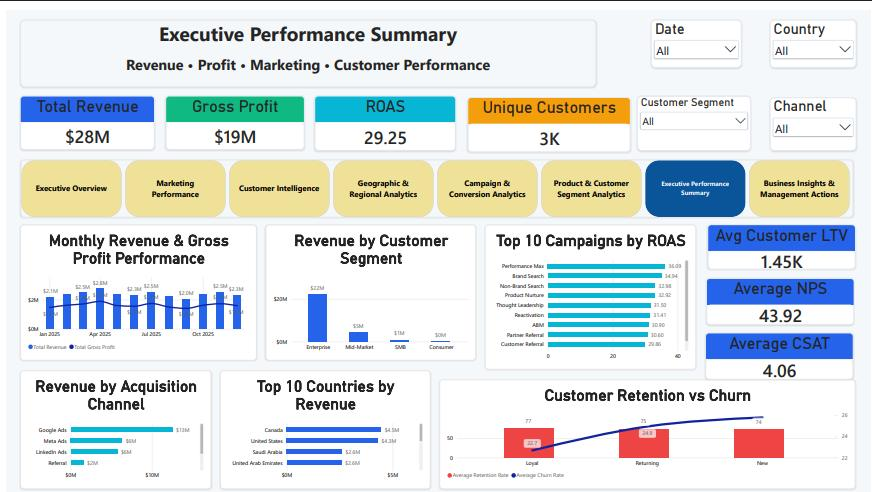

This screenshot's page, from the dashboard's own definition file:
{"tool":"powerbi","page":{"name":"Executive Performance Summary","canvas":[1920,1080],"ordinal":6},"visuals":[{"type":"textbox","box":[30.3,20.2,1279.2,148.9],"z":0},{"type":"cardVisual","title":"Total Revenue","fields":{"Data":["customer_marketing_db vw_customer_marketing.Total Revenue"]},"box":[30.3,189.2,297.7,118.6],"z":1000},{"type":"cardVisual","title":"Gross Profit","fields":{"Data":["customer_marketing_db vw_customer_marketing.Total Gross Profit"]},"box":[353.2,189.2,307.8,118.6],"z":2000},{"type":"cardVisual","title":"Unique Customers","fields":{"Data":["customer_marketing_db vw_customer_marketing.Unique Customers"]},"box":[1024.3,191.7,360.8,121.1],"z":3000},{"type":"cardVisual","title":"ROAS","fields":{"Data":["customer_marketing_db vw_customer_marketing.Total ROAS"]},"box":[683.7,189.2,312.9,121.1],"z":4000},{"type":"lineClusteredColumnComboChart","title":"Monthly Revenue & Gross Profit Performance","fields":{"Category":["DateTable.Year Month"],"Y":["customer_marketing_db vw_customer_marketing.Total Revenue"],"Y2":["customer_marketing_db vw_customer_marketing.Total Gross Profit"]},"box":[30.3,474.3,524.8,300.2],"z":5000},{"type":"clusteredBarChart","title":"Revenue by Acquisition Channel","fields":{"Category":["customer_marketing_db vw_customer_marketing.Acquisition_Channel"],"Y":["customer_marketing_db vw_customer_marketing.Total Revenue"]},"box":[30.3,797.3,423.9,262.4],"z":6000},{"type":"clusteredColumnChart","title":"Revenue by Customer Segment","fields":{"Category":["customer_marketing_db vw_customer_marketing.Customer_Segment"],"Y":["customer_marketing_db vw_customer_marketing.Total Revenue"]},"box":[575.2,474.3,466.8,300.2],"z":7000},{"type":"clusteredBarChart","title":"Top 10 Countries by Revenue","fields":{"Category":["customer_marketing_db vw_customer_marketing.Country"],"Y":["customer_marketing_db vw_customer_marketing.Total Revenue"]},"box":[474.3,797.3,466.8,262.4],"z":8000},{"type":"clusteredBarChart","title":"Top 10 Campaigns by ROAS","fields":{"Category":["customer_marketing_db vw_customer_marketing.Campaign"],"Y":["customer_marketing_db vw_customer_marketing.Total ROAS"]},"box":[1062.2,474.3,469.3,320.4],"z":9000},{"type":"lineClusteredColumnComboChart","title":"Customer Retention vs Churn","fields":{"Category":["customer_marketing_db vw_customer_marketing.Customer_Status"],"Y":["customer_marketing_db vw_customer_marketing.Average Retention Rate"],"Y2":["customer_marketing_db vw_customer_marketing.Average Churn Rate"]},"box":[961.3,817.5,923.4,242.2],"z":10000},{"type":"cardVisual","title":"Avg Customer LTV","fields":{"Data":["customer_marketing_db vw_customer_marketing.Average Customer LTV"]},"box":[1556.7,474.3,328,98.4],"z":11000},{"type":"cardVisual","title":"Average NPS","fields":{"Data":["customer_marketing_db vw_customer_marketing.Average NPS"]},"box":[1554.2,592.9,328,103.4],"z":12000},{"type":"cardVisual","title":"Average CSAT","fields":{"Data":["customer_marketing_db vw_customer_marketing.Average CSAT"]},"box":[1551.6,714,328,103.4],"z":13000},{"type":"slicer","fields":{"Values":["DateTable.Date"]},"box":[1430.5,20.2,201.8,106],"z":14000},{"type":"slicer","fields":{"Values":["customer_marketing_db vw_customer_marketing.Acquisition_Channel"]},"box":[1695.5,191.7,191.7,118.6],"z":15000},{"type":"slicer","fields":{"Values":["customer_marketing_db vw_customer_marketing.Country"]},"box":[1695.5,20.2,191.7,106],"z":16000},{"type":"slicer","fields":{"Values":["customer_marketing_db vw_customer_marketing.Customer_Segment"]},"box":[1400.3,189.2,252.3,121.1],"z":17000},{"type":"pageNavigator","box":[31,330,1849.1,128.4],"z":17001}]}

Visuals, with their boxes in screenshot pixels (x1, y1, x2, y2), scaled from the page's 1920x1080 canvas onto the 872x492 screenshot:
textbox: region(14, 9, 595, 77)
"Total Revenue" cardVisual: region(14, 86, 149, 140)
"Gross Profit" cardVisual: region(160, 86, 300, 140)
"Unique Customers" cardVisual: region(465, 87, 629, 142)
"ROAS" cardVisual: region(311, 86, 453, 141)
"Monthly Revenue & Gross Profit Performance" lineClusteredColumnComboChart: region(14, 216, 252, 353)
"Revenue by Acquisition Channel" clusteredBarChart: region(14, 363, 206, 483)
"Revenue by Customer Segment" clusteredColumnChart: region(261, 216, 473, 353)
"Top 10 Countries by Revenue" clusteredBarChart: region(215, 363, 427, 483)
"Top 10 Campaigns by ROAS" clusteredBarChart: region(482, 216, 696, 362)
"Customer Retention vs Churn" lineClusteredColumnComboChart: region(437, 372, 856, 483)
"Avg Customer LTV" cardVisual: region(707, 216, 856, 261)
"Average NPS" cardVisual: region(706, 270, 855, 317)
"Average CSAT" cardVisual: region(705, 325, 854, 372)
slicer - DateTable.Date: region(650, 9, 741, 57)
slicer - customer_marketing_db vw_customer_marketing.Acquisition_Channel: region(770, 87, 857, 141)
slicer - customer_marketing_db vw_customer_marketing.Country: region(770, 9, 857, 57)
slicer - customer_marketing_db vw_customer_marketing.Customer_Segment: region(636, 86, 751, 141)
pageNavigator: region(14, 150, 854, 209)
